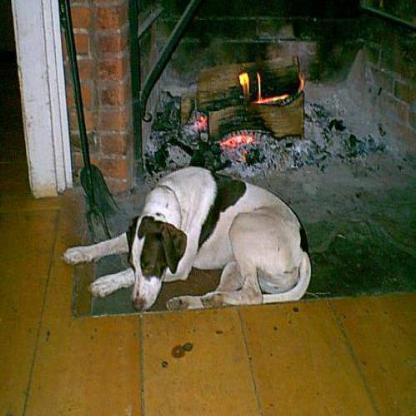dog: (57, 115, 318, 345)
